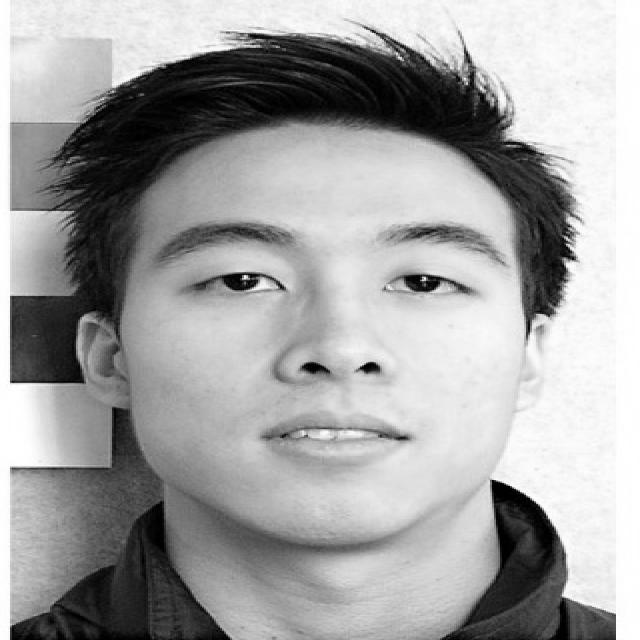without_mask: (112, 121, 532, 546)
